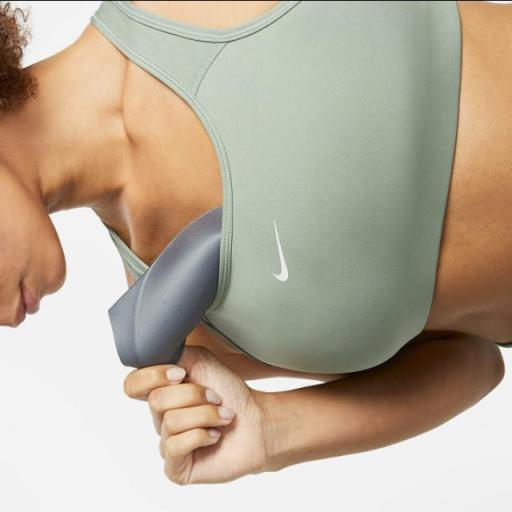Nike: (266, 216, 293, 286)
